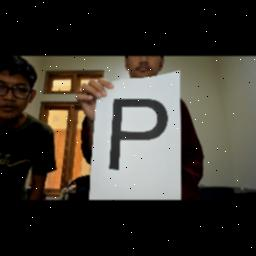p: (108, 94, 170, 180)
